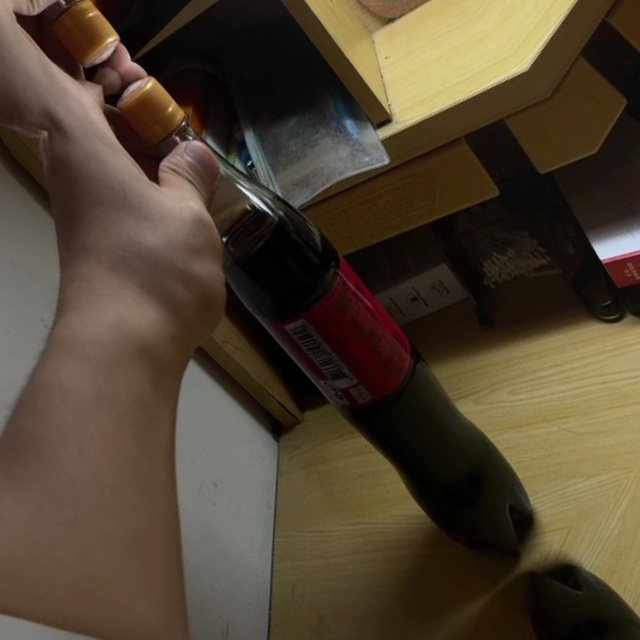Coca-Cola: (89, 51, 560, 583)
